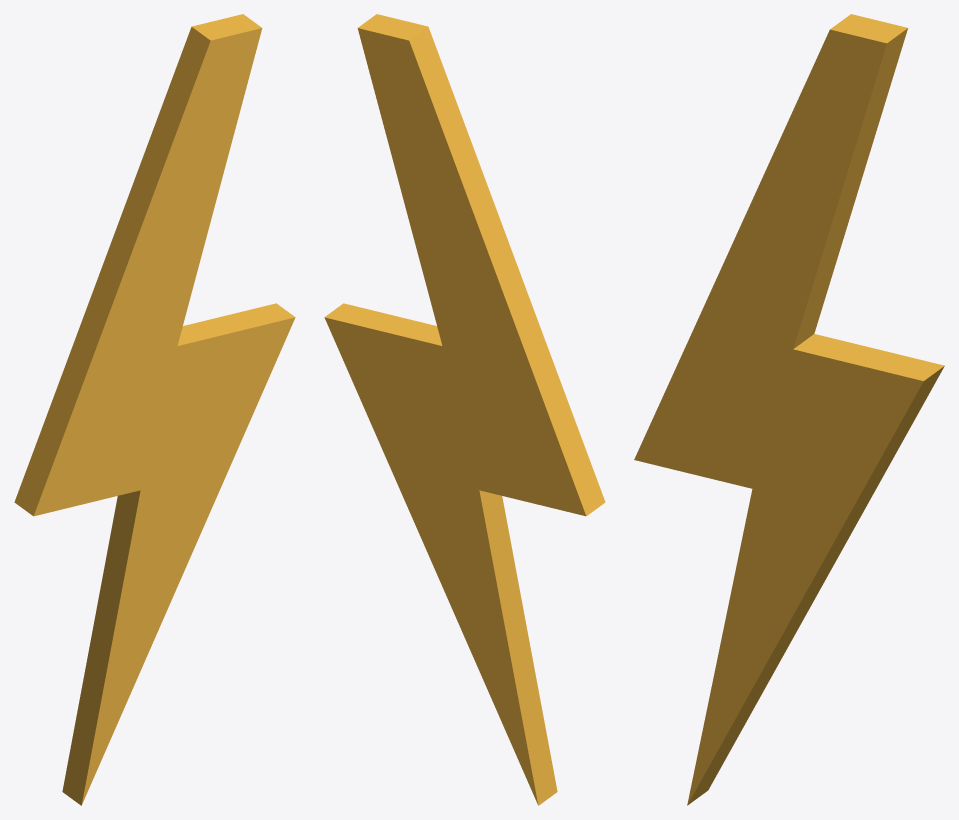
File: bolt.glb
3 renders of one model, left to right at view 1: azimuth 30°, elevation 25°; view 2: azimuth 150°, elevation 25°; view 3: azimuth 330°, elevation 25°, orthographic. The views are drawn at different scales.
Visible parts, largest first — view 1: bolt; view 2: bolt; view 3: bolt.
Part boxes in pixels (x1,y1,x2,y2): bolt: (14, 14, 295, 805); bolt: (324, 14, 605, 805); bolt: (634, 14, 944, 805).
Bounding box in the file's own units: 0.71 × 1.9 × 0.09.
